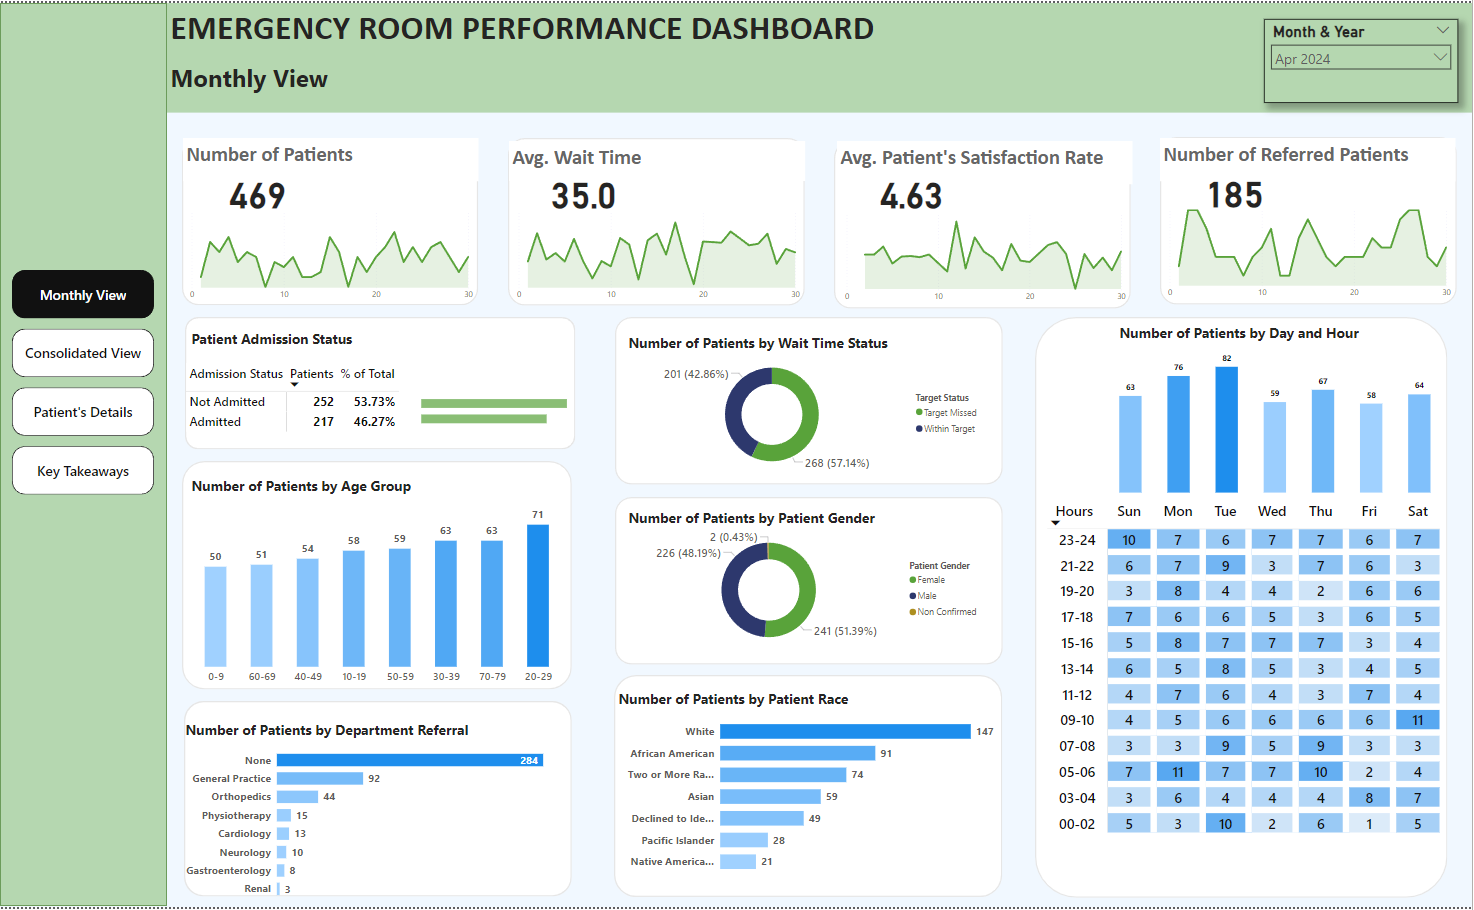

The page's visual inventory and layout, read from the dashboard file:
{"tool":"powerbi","page":{"name":"Monthly View","canvas":[2300,1400],"ordinal":0},"visuals":[{"type":"shape","title":"Number of Patients","box":[301.2,209.4,459,259.3],"z":0},{"type":"shape","box":[18.6,0,258.8,1399.5],"z":1000},{"type":"shape","box":[277.3,0,2022.7,169.9],"z":2000},{"type":"textbox","box":[277.3,0,1602.8,84.9],"z":3000},{"type":"textbox","box":[277.3,84.9,301.3,70.5],"z":4000},{"type":"card","title":"Number of Patients","fields":{"Values":["Hospital_1_Data.Number of Patients"]},"box":[302.9,256.4,230.8,72.1],"z":5000},{"type":"slicer","fields":{"Values":["Date Table.Month & Year"]},"box":[1977.9,24.2,301.2,130.5],"z":6000},{"type":"textbox","box":[302.9,210,458.4,67.3],"z":7000},{"type":"areaChart","fields":{"Y":["Hospital_1_Data.Number of Patients"],"Category":["Date Table.Date.Variation.Date Hierarchy.Day"]},"box":[301.3,309.3,458.4,160.3],"z":8000},{"type":"shape","title":"Number of Patients","box":[805.6,210,460,259.7],"z":9000},{"type":"card","title":"Number of Patients","fields":{"Values":["Hospital_1_Data.Avg. Wait Time"]},"box":[807.5,255.7,230.9,72.8],"z":10000},{"type":"textbox","box":[807.5,213.9,458.8,62],"z":11000},{"type":"areaChart","fields":{"Y":["Hospital_1_Data.Avg. Wait Time"],"Category":["Date Table.Date.Variation.Date Hierarchy.Day"]},"box":[807.8,309.3,458.4,160.3],"z":12000},{"type":"shape","title":"Number of Patients","box":[1311,213.6,460,259.7],"z":13000},{"type":"textbox","box":[1315.9,213.2,458.4,67.3],"z":14000},{"type":"areaChart","fields":{"Category":["Date Table.Date.Variation.Date Hierarchy.Day"],"Y":["Hospital_1_Data.Avg. Patient's Satisfaction Rate"]},"box":[1315.9,312.5,455.2,160.3],"z":15000},{"type":"shape","title":"Number of Patients","box":[1816.3,207.1,460,259.7],"z":16000},{"type":"card","title":"Number of Patients","fields":{"Values":["Hospital_1_Data.Number of Referred Patients"]},"box":[1816.3,253.6,230.8,72.1],"z":17000},{"type":"textbox","box":[1816,210,458.4,67.3],"z":18000},{"type":"areaChart","fields":{"Category":["Date Table.Date.Variation.Date Hierarchy.Day"],"Y":["Hospital_1_Data.Number of Referred Patients"]},"box":[1816,306.1,458.4,160.3],"z":19000},{"type":"card","title":"Number of Patients","fields":{"Values":["Hospital_1_Data.Avg. Patient's Satisfaction Rate"]},"box":[1315.9,256.4,230.8,72.1],"z":20000},{"type":"shape","title":"Number of Patients","box":[304.8,487.1,605,205.3],"z":21000},{"type":"pivotTable","fields":{"Rows":["Hospital_1_Data.Admission Status"],"Values":["Hospital_1_Data.Number of Patients1","Hospital_1_Data.Number of Patients"]},"box":[301.8,553,441.1,142.5],"z":22000},{"type":"barChart","fields":{"Category":["Hospital_1_Data.Admission Status"],"Y":["Hospital_1_Data.Number of Patients"]},"box":[666.3,589.7,278.8,81.2],"z":23000},{"type":"textbox","box":[309.4,500.9,424.3,39.8],"z":24000},{"type":"shape","title":"Number of Patients","box":[301.3,710,604.3,354.2],"z":25000},{"type":"shape","title":"Number of Patients","box":[304.5,1081.9,601,302.9],"z":26000},{"type":"textbox","box":[309.3,727.7,402.3,38.5],"z":27000},{"type":"columnChart","fields":{"Category":["Hospital_1_Data.Age Groups"],"Y":["Hospital_1_Data.Number of Patients"]},"box":[302.9,766.1,602.6,298.1],"z":28000},{"type":"clusteredBarChart","fields":{"Category":["Hospital_1_Data.Department Referral"],"Y":["Hospital_1_Data.Number of Patients"]},"box":[301.3,1110.7,599.4,288.5],"z":29000},{"type":"shape","title":"Number of Patients","box":[971.3,766.1,601,259.7],"z":30000},{"type":"shape","title":"Number of Patients","box":[971.3,487.2,601,259.7],"z":31000},{"type":"donutChart","fields":{"Category":["Hospital_1_Data.Patient Gender"],"Y":["Hospital_1_Data.Number of Patients"]},"box":[987.3,782.2,559.4,226],"z":32000},{"type":"donutChart","title":"Number of Patients by Wait Time Status","fields":{"Category":["Hospital_1_Data.Target Status"],"Y":["Hospital_1_Data.Number of Patients"]},"box":[987.3,511.3,559.4,224.4],"z":33000},{"type":"shape","title":"Number of Patients","box":[970.5,1041,601.6,344.3],"z":34000},{"type":"clusteredBarChart","fields":{"Category":["Hospital_1_Data.Patient Race"],"Y":["Hospital_1_Data.Number of Patients"]},"box":[972.1,1063.9,600,298.4],"z":35000},{"type":"shape","title":"Number of Patients","box":[1623,486.9,639.3,900],"z":36000},{"type":"pivotTable","fields":{"Rows":["Hospital_1_Data.Waittime Interval"],"Columns":["Date Table.Day Name"],"Values":["Hospital_1_Data.Number of Patients"]},"box":[1636.1,765.6,626.2,585.2],"z":37000},{"type":"columnChart","title":"Number of Patients by Day and Hour","fields":{"Category":["Date Table.Day Name"],"Y":["Hospital_1_Data.Number of Patients"]},"box":[1747.5,496.7,495.1,268.9],"z":38000},{"type":"pageNavigator","box":[37.2,413.8,220.1,350.3],"z":39000}]}

Visuals, with their boxes in screenshot pixels (x1, y1, x2, y2), scaled from the page's 2300x1400 canvas onto the 1474x910 screenshot:
"Number of Patients" shape: left=193, top=136, right=487, bottom=305
shape: left=12, top=0, right=178, bottom=909
shape: left=178, top=0, right=1473, bottom=110
textbox: left=178, top=0, right=1205, bottom=55
textbox: left=178, top=55, right=371, bottom=101
"Number of Patients" card: left=194, top=167, right=342, bottom=214
slicer - Date Table.Month & Year: left=1268, top=16, right=1461, bottom=101
textbox: left=194, top=136, right=488, bottom=180
areaChart - Hospital_1_Data.Number of Patients x Date Table.Date.Variation.Date Hierarchy.Day: left=193, top=201, right=487, bottom=305
"Number of Patients" shape: left=516, top=136, right=811, bottom=305
"Number of Patients" card: left=518, top=166, right=665, bottom=214
textbox: left=518, top=139, right=812, bottom=179
areaChart - Hospital_1_Data.Avg. Wait Time x Date Table.Date.Variation.Date Hierarchy.Day: left=518, top=201, right=811, bottom=305
"Number of Patients" shape: left=840, top=139, right=1135, bottom=308
textbox: left=843, top=139, right=1137, bottom=182
areaChart - Date Table.Date.Variation.Date Hierarchy.Day x Hospital_1_Data.Avg. Patient's Satisfaction Rate: left=843, top=203, right=1135, bottom=307
"Number of Patients" shape: left=1164, top=135, right=1459, bottom=303
"Number of Patients" card: left=1164, top=165, right=1312, bottom=212
textbox: left=1164, top=136, right=1458, bottom=180
areaChart - Date Table.Date.Variation.Date Hierarchy.Day x Hospital_1_Data.Number of Referred Patients: left=1164, top=199, right=1458, bottom=303
"Number of Patients" card: left=843, top=167, right=991, bottom=214
"Number of Patients" shape: left=195, top=317, right=583, bottom=450
pivotTable - Hospital_1_Data.Admission Status x Hospital_1_Data.Number of Patients1: left=193, top=359, right=476, bottom=452
barChart - Hospital_1_Data.Admission Status x Hospital_1_Data.Number of Patients: left=427, top=383, right=606, bottom=436
textbox: left=198, top=326, right=470, bottom=351
"Number of Patients" shape: left=193, top=462, right=580, bottom=692
"Number of Patients" shape: left=195, top=703, right=580, bottom=900
textbox: left=198, top=473, right=456, bottom=498
columnChart - Hospital_1_Data.Age Groups x Hospital_1_Data.Number of Patients: left=194, top=498, right=580, bottom=692
clusteredBarChart - Hospital_1_Data.Department Referral x Hospital_1_Data.Number of Patients: left=193, top=722, right=577, bottom=909
"Number of Patients" shape: left=622, top=498, right=1008, bottom=667
"Number of Patients" shape: left=622, top=317, right=1008, bottom=485
donutChart - Hospital_1_Data.Patient Gender x Hospital_1_Data.Number of Patients: left=633, top=508, right=991, bottom=655
"Number of Patients by Wait Time Status" donutChart: left=633, top=332, right=991, bottom=478
"Number of Patients" shape: left=622, top=677, right=1008, bottom=900
clusteredBarChart - Hospital_1_Data.Patient Race x Hospital_1_Data.Number of Patients: left=623, top=692, right=1008, bottom=885
"Number of Patients" shape: left=1040, top=316, right=1450, bottom=901
pivotTable - Hospital_1_Data.Waittime Interval x Date Table.Day Name: left=1049, top=498, right=1450, bottom=878
"Number of Patients by Day and Hour" columnChart: left=1120, top=323, right=1437, bottom=498
pageNavigator: left=24, top=269, right=165, bottom=497
